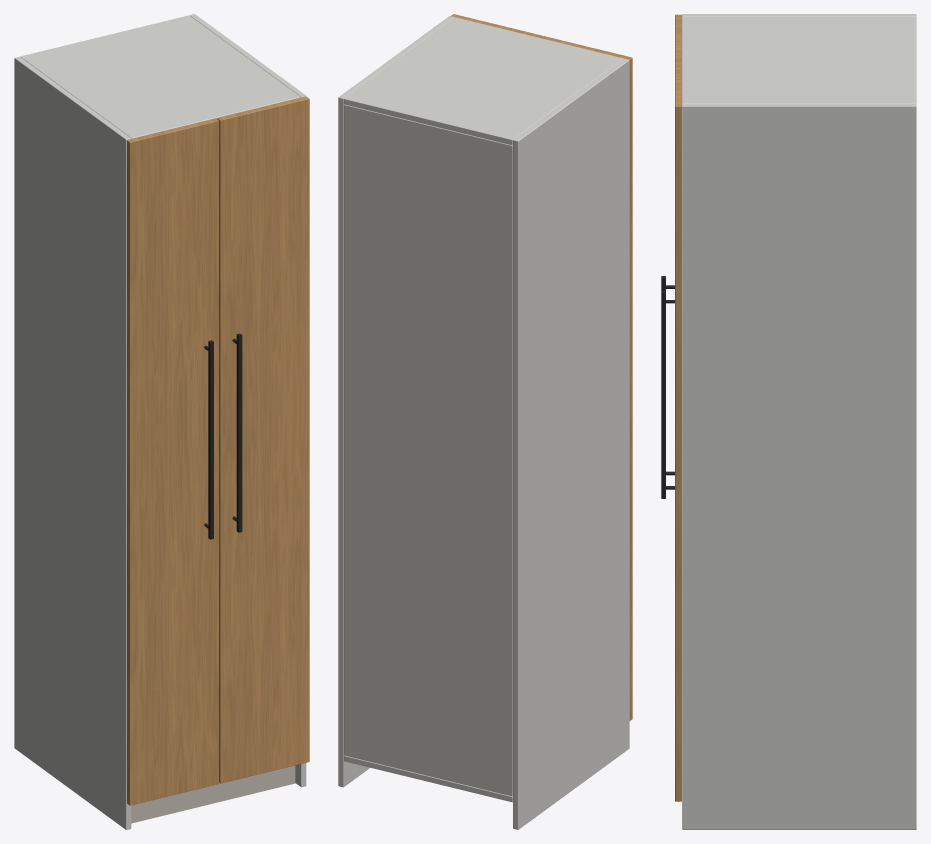
File: storage_cabinet_4.glb
3 renders of one model, left to right at view 1: azimuth 30°, elevation 25°; view 2: azimuth 150°, elevation 25°; view 3: azimuth 270°, elevation 25°, orthographic. The views are drawn at different scales.
Parts seen in each view (by area): view 1: storage_cabinet_4_carcass, storage_cabinet_4_door_l, storage_cabinet_4_door_r, storage_cabinet_4_plinth, storage_cabinet_4_handle_r, storage_cabinet_4_handle_l; view 2: storage_cabinet_4_carcass, storage_cabinet_4_door_l; view 3: storage_cabinet_4_carcass, storage_cabinet_4_door_r, storage_cabinet_4_handle_r.
Part boxes in pixels (left/top/right/bottom): storage_cabinet_4_carcass: left=14, top=14, right=306, bottom=829; storage_cabinet_4_door_l: left=127, top=118, right=218, bottom=805; storage_cabinet_4_door_r: left=217, top=96, right=309, bottom=783; storage_cabinet_4_plinth: left=131, top=765, right=295, bottom=823; storage_cabinet_4_handle_r: left=232, top=333, right=242, bottom=532; storage_cabinet_4_handle_l: left=204, top=340, right=213, bottom=539; storage_cabinet_4_carcass: left=338, top=16, right=629, bottom=829; storage_cabinet_4_door_l: left=541, top=36, right=632, bottom=720; storage_cabinet_4_carcass: left=682, top=14, right=916, bottom=829; storage_cabinet_4_door_r: left=675, top=61, right=681, bottom=801; storage_cabinet_4_handle_r: left=661, top=290, right=674, bottom=498.
Bounding box in the file's own units: 0.575 × 2.1 × 0.671.
4 materials, 1 textured.
